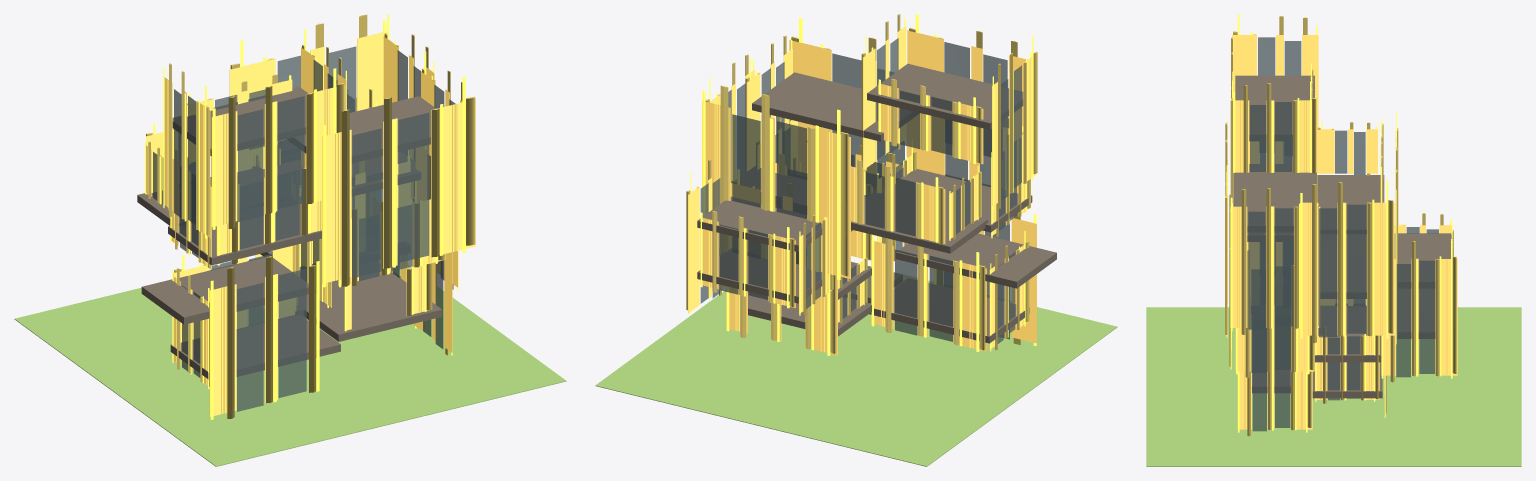
File: pav_12.glb
3 views of the same model, side by side, from view 1: azimuth 30°, elevation 25°; view 2: azimuth 150°, elevation 25°; view 3: azimuth 270°, elevation 25° (orthographic). The views are drawn at different scales.
Parts seen in each view (by area): view 1: Cube, Dark, Glaze, floor, Metal1, Metal2; view 2: Cube, Dark, floor, Glaze, Metal1, Metal2; view 3: Cube, Glaze, floor, Dark, Metal1, Metal2.
Boxes of the visible parts, x1,y1,x2,y2 form: Cube: (14,262,566,466); Dark: (146,31,475,416); Glaze: (153,46,455,411); floor: (137,87,442,379); Metal1: (146,14,475,418); Metal2: (145,14,469,419); Cube: (595,261,1117,466); Dark: (688,26,1036,355); floor: (697,63,1056,343); Glaze: (700,38,1021,343); Metal1: (686,14,1037,353); Metal2: (690,14,1036,355); Cube: (1146,307,1521,466); Glaze: (1248,37,1438,431); floor: (1233,75,1451,398); Dark: (1227,34,1457,429); Metal1: (1225,15,1456,436); Metal2: (1226,14,1452,432).
Bounding box in the file's own units: 15.91 × 14.53 × 15.86.
